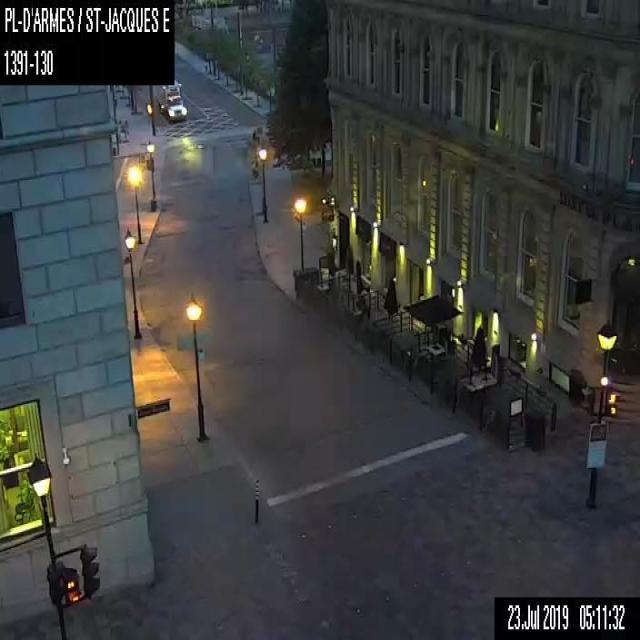vehicle: (154, 79, 187, 121)
